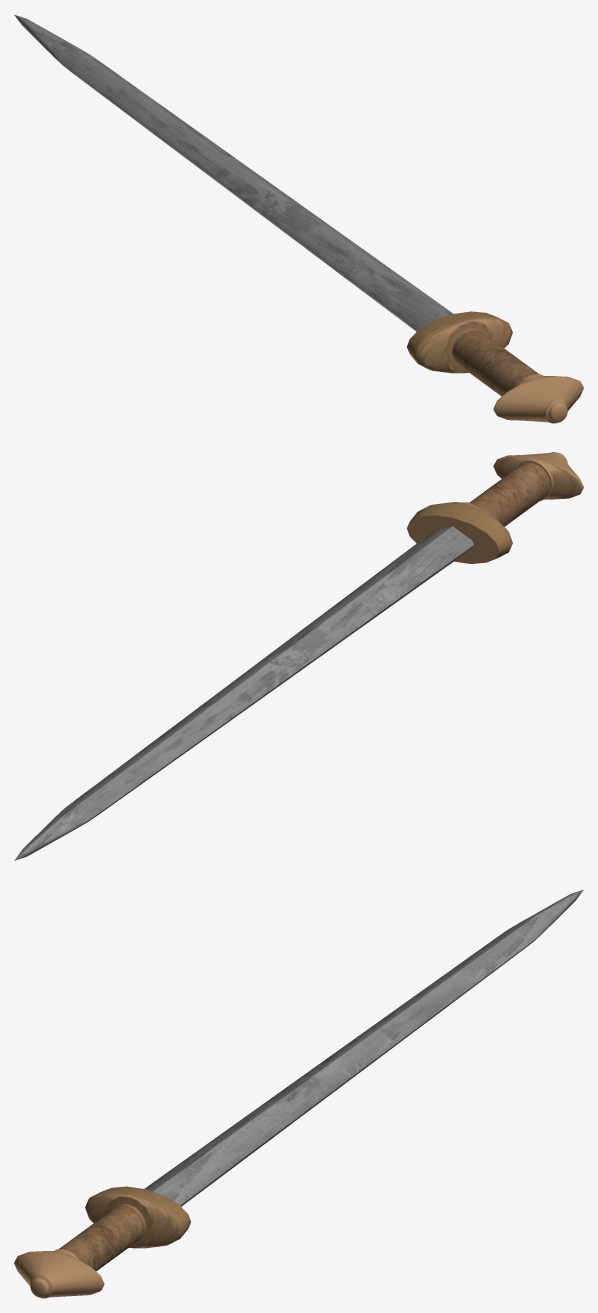
Rendered from Viking.fbx.
The picture shows the model from 3 angles, top to bottom: view 1: azimuth 30°, elevation 25°; view 2: azimuth 150°, elevation 25°; view 3: azimuth 330°, elevation 25°; orthographic projection.
Visible parts, largest first — view 1: Gladius.005; view 2: Gladius.005; view 3: Gladius.005.
Boxes of the visible parts, x1,y1,x2,y2 form: Gladius.005: (14, 14, 583, 423); Gladius.005: (14, 452, 583, 860); Gladius.005: (14, 889, 583, 1298).
Size of the model in its own units: 10.94 by 5.44 by 105.
